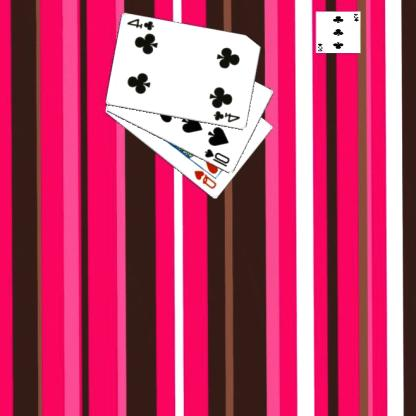10S: (204, 146, 233, 168)
4C: (127, 16, 158, 32), (213, 108, 243, 124)
QH: (193, 168, 219, 191)
